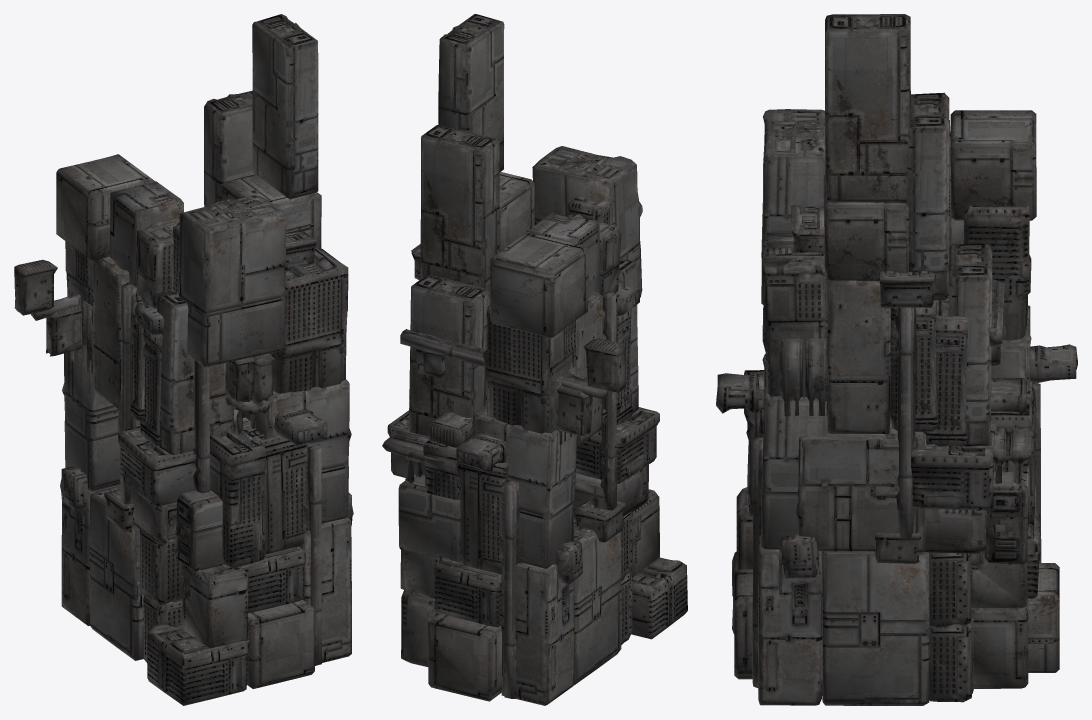
The model's file is Tower.fbx.
3 renders of one model, left to right at view 1: azimuth 30°, elevation 25°; view 2: azimuth 150°, elevation 25°; view 3: azimuth 270°, elevation 25°, orthographic. The views are drawn at different scales.
Parts seen in each view (by area): view 1: Techblock-9.041, Techblock-9.040, CityAsset-3-Apartments_3.020, Techblock-9.025, Techblock-9.033, CityAsset-3-Apartments_3.014, CityAsset-3-Apartments_3.009, Techblock-9.027, Techblock-9.043, Techblock-9.016, Techblock-9.001, CityAsset-3-Apartments_3.012 (+31 smaller); view 2: Techblock-9.046, Techblock-9.022, Techblock-9.043, Techblock-9.027, Techblock-9.024, CityAsset-3-Apartments_3.035, Techblock-9.040, Techblock-9.041, Techblock-9.025, Techblock-9.023, CityAsset-3-Apartments_3.027, Techblock-9.032 (+30 smaller); view 3: Techblock-9.014, Techblock-9.040, Techblock-9.015, Techblock-9.019, Techblock-9.002, Techblock-9.043, Techblock-9.046, CityAsset-3-Apartments_3.020, Techblock-9.041, Techblock-9.039, Techblock-9.022, Techblock-9.016 (+31 smaller).
Part boxes in pixels (x1,y1,x2,y2): Techblock-9.041: (179,195,288,367); Techblock-9.040: (252,14,318,199); CityAsset-3-Apartments_3.020: (269,247,348,393); Techblock-9.025: (90,485,143,660); Techblock-9.033: (157,291,234,454); CityAsset-3-Apartments_3.014: (210,427,265,568); CityAsset-3-Apartments_3.009: (147,622,249,705); Techblock-9.027: (62,349,140,491); Techblock-9.043: (56,154,155,261); Techblock-9.016: (245,379,351,523); Techblock-9.001: (247,600,314,688); CityAsset-3-Apartments_3.012: (243,428,309,553); Techblock-9.046: (420,125,499,294); Techblock-9.022: (409,274,489,436); Techblock-9.043: (490,232,588,337); Techblock-9.027: (472,405,576,568); Techblock-9.024: (501,562,574,705); CityAsset-3-Apartments_3.035: (483,305,576,433); Techblock-9.040: (438,14,504,172); Techblock-9.041: (532,146,642,297); Techblock-9.025: (573,519,621,685); Techblock-9.023: (428,613,501,701); CityAsset-3-Apartments_3.027: (456,462,507,573); Techblock-9.032: (398,474,528,574); Techblock-9.014: (822,551,929,705); Techblock-9.040: (825,14,910,202); Techblock-9.015: (796,417,926,552); Techblock-9.019: (827,280,890,433); Techblock-9.002: (758,535,822,705); Techblock-9.043: (950,110,1036,220); Techblock-9.046: (906,92,949,300); CityAsset-3-Apartments_3.020: (762,232,827,396); Techblock-9.041: (761,109,825,304); Techblock-9.039: (824,175,908,281); Techblock-9.022: (949,243,992,446); Techblock-9.016: (761,354,827,549).
Bounding box in the file's own units: 148 × 348 × 169.
